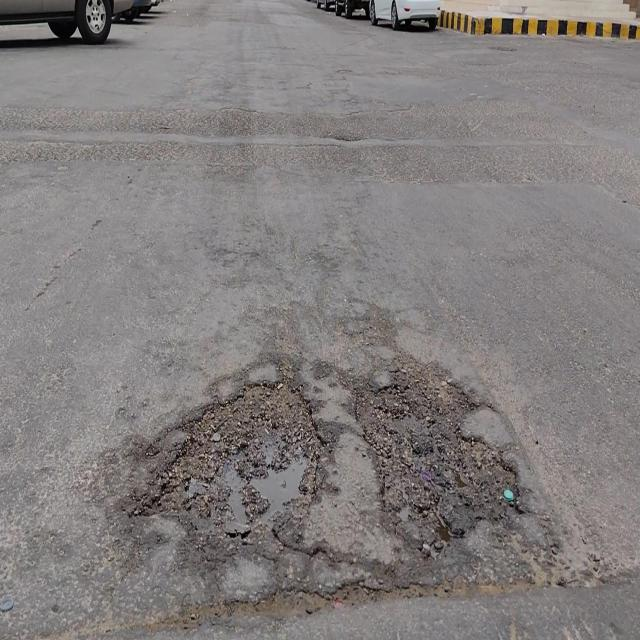Pothole: (353, 357, 519, 556), (138, 377, 319, 556)
